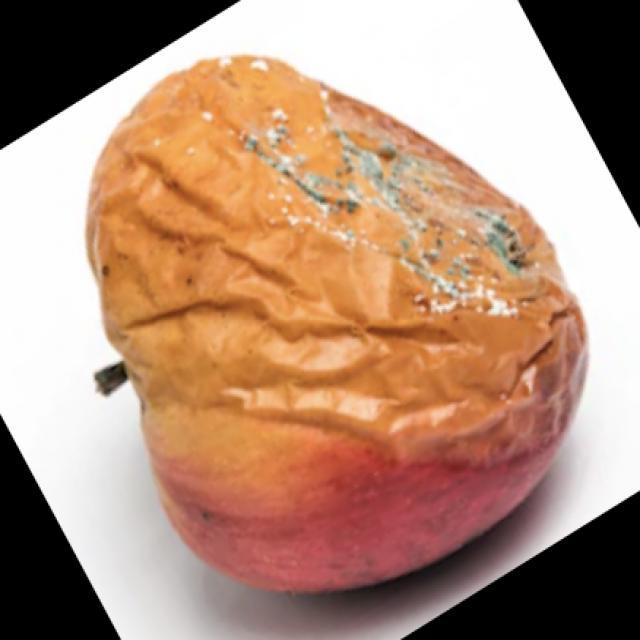Rotten: (78, 40, 570, 570)
